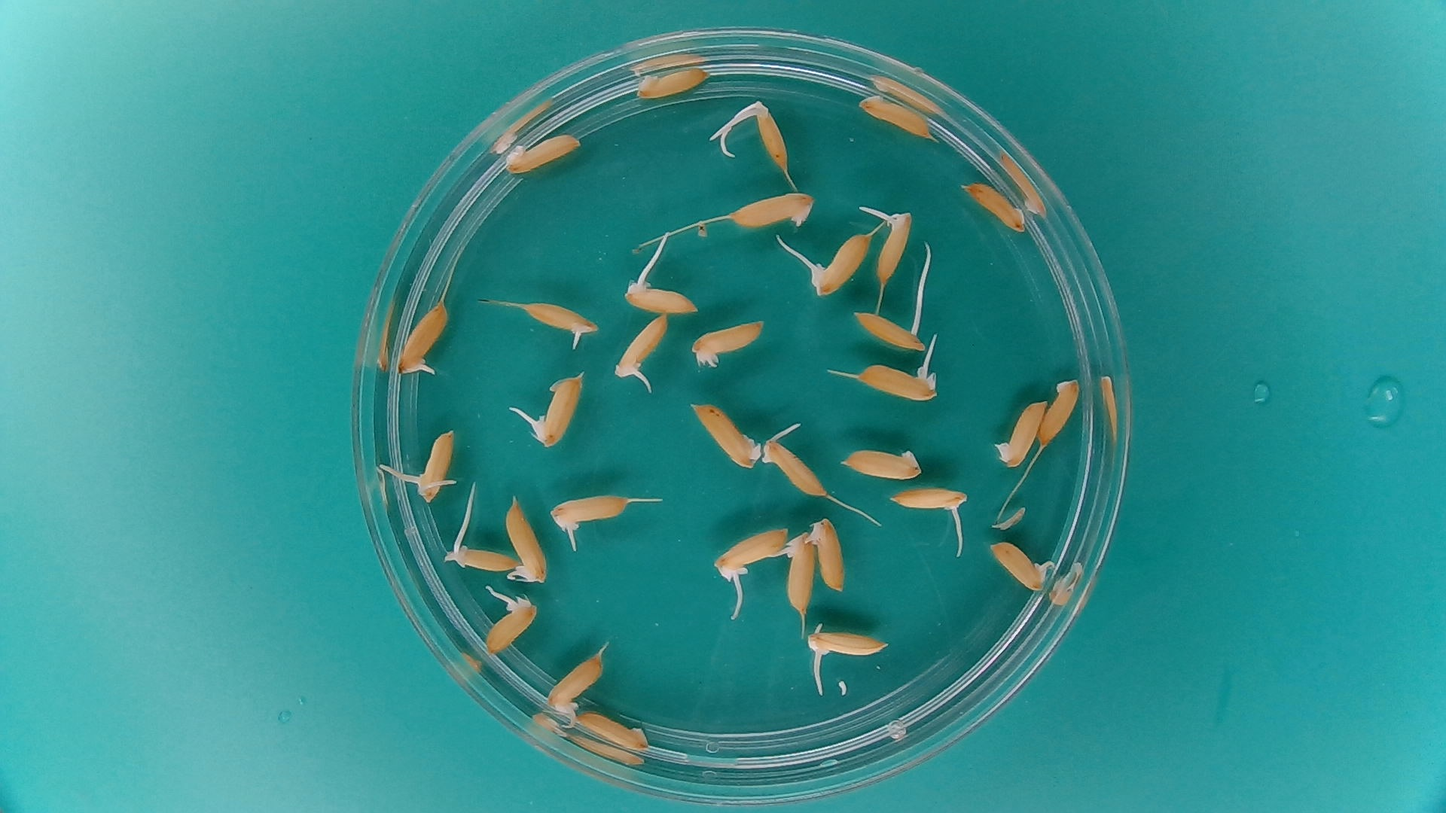no: (689, 399, 765, 470), (993, 396, 1047, 469), (960, 178, 1030, 234), (728, 187, 816, 230), (502, 129, 584, 175), (856, 93, 933, 139), (838, 443, 923, 483), (1038, 375, 1082, 448), (630, 65, 715, 102), (575, 712, 650, 753)
yes: (542, 642, 608, 749), (799, 231, 874, 298), (521, 371, 584, 450), (395, 298, 450, 380), (711, 524, 789, 580), (613, 312, 670, 388), (517, 297, 600, 348), (687, 316, 767, 368), (761, 437, 826, 499), (481, 588, 541, 654), (505, 495, 549, 585), (550, 492, 636, 536), (621, 268, 701, 315), (857, 358, 941, 402), (987, 537, 1054, 591), (871, 206, 914, 288), (746, 97, 792, 172), (850, 309, 924, 352), (412, 426, 455, 500), (805, 624, 891, 660), (809, 515, 848, 592), (885, 483, 970, 517), (782, 530, 816, 614), (444, 541, 518, 569)
